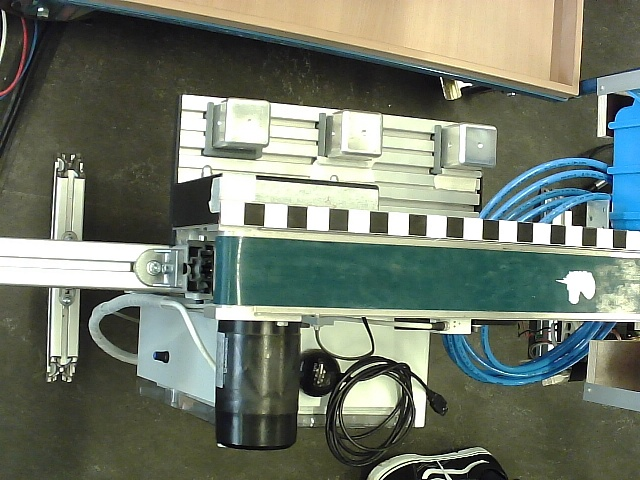unicorn: (555, 269, 598, 305)
